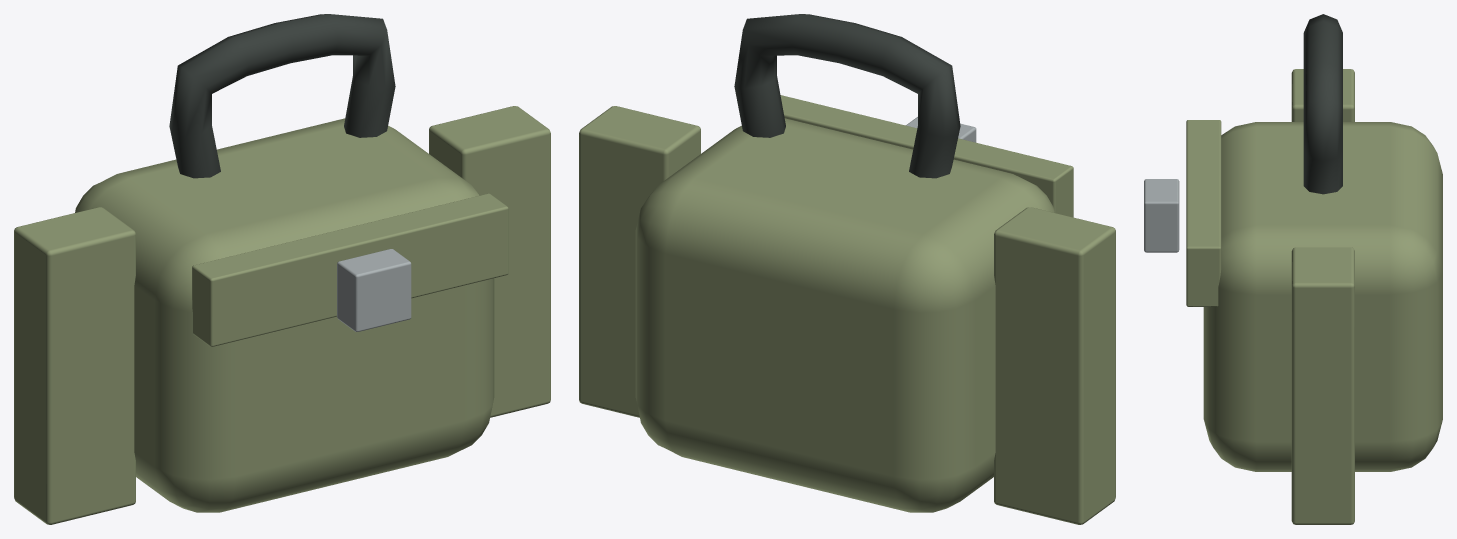
File: backpacks-and-expedition-storage-camera-bag-ca6799fd__21087.glb
3 renders of one model, left to right at view 1: azimuth 30°, elevation 25°; view 2: azimuth 150°, elevation 25°; view 3: azimuth 270°, elevation 25°, orthographic. The views are drawn at different scales.
Parts seen in each view (by area): view 1: camera-bag, flap/canvas; view 2: camera-bag, flap/canvas; view 3: camera-bag, flap/canvas.
Part boxes in pixels (x1=…): camera-bag: x1=14, y1=14, x2=550, y2=524; flap/canvas: x1=192, y1=193, x2=508, y2=346; camera-bag: x1=579, y1=14, x2=1115, y2=524; flap/canvas: x1=780, y1=95, x2=1073, y2=217; camera-bag: x1=1144, y1=14, x2=1442, y2=524; flap/canvas: x1=1186, y1=120, x2=1221, y2=306.
Size of the model in its own units: 0.365 by 0.2971 by 0.2125.
